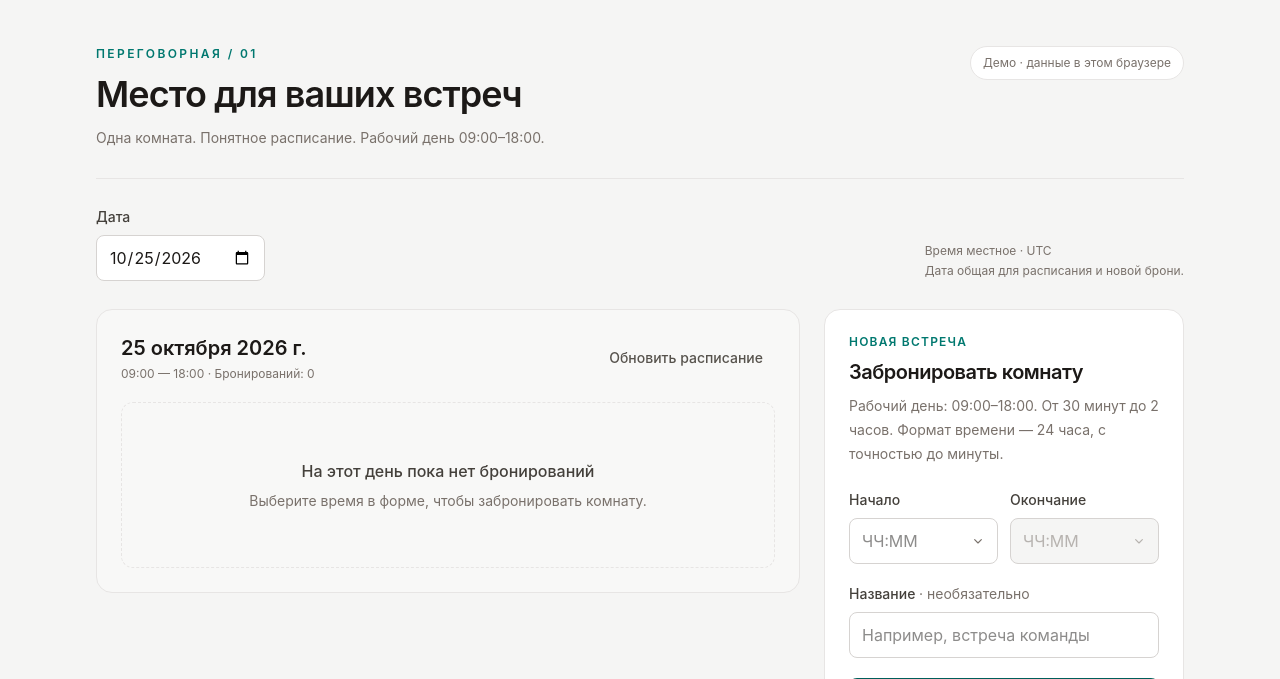
Test case: booking UI through real HTTP handlers › allows moving a past booking into the future but not saving its past interval
The width and height of the screenshot is (1280, 679).
Expected: the text "На этот день пока нет бронирований" is shown, [302,461,594,481]
In the date field labelled "Дата": (180, 258) [96,235,265,281], type "2026-10-24"
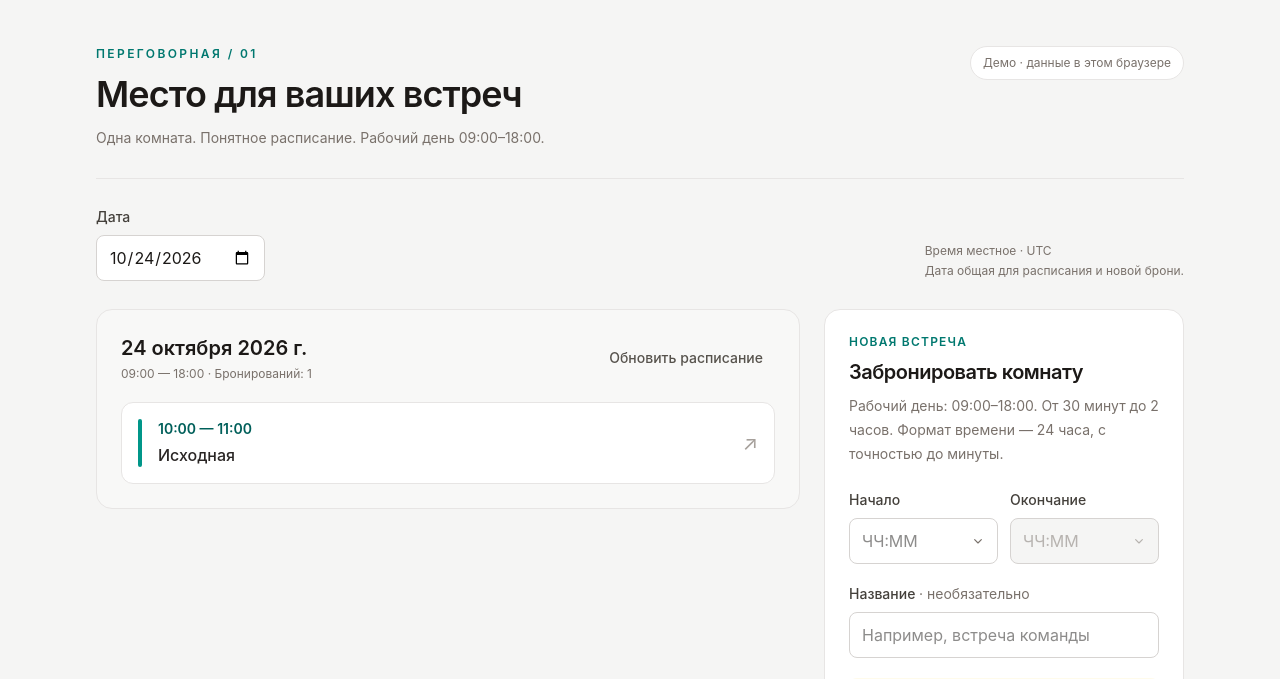
Click the button with aria-label "Редактировать Исходная": (177, 428) [121,402,775,484]
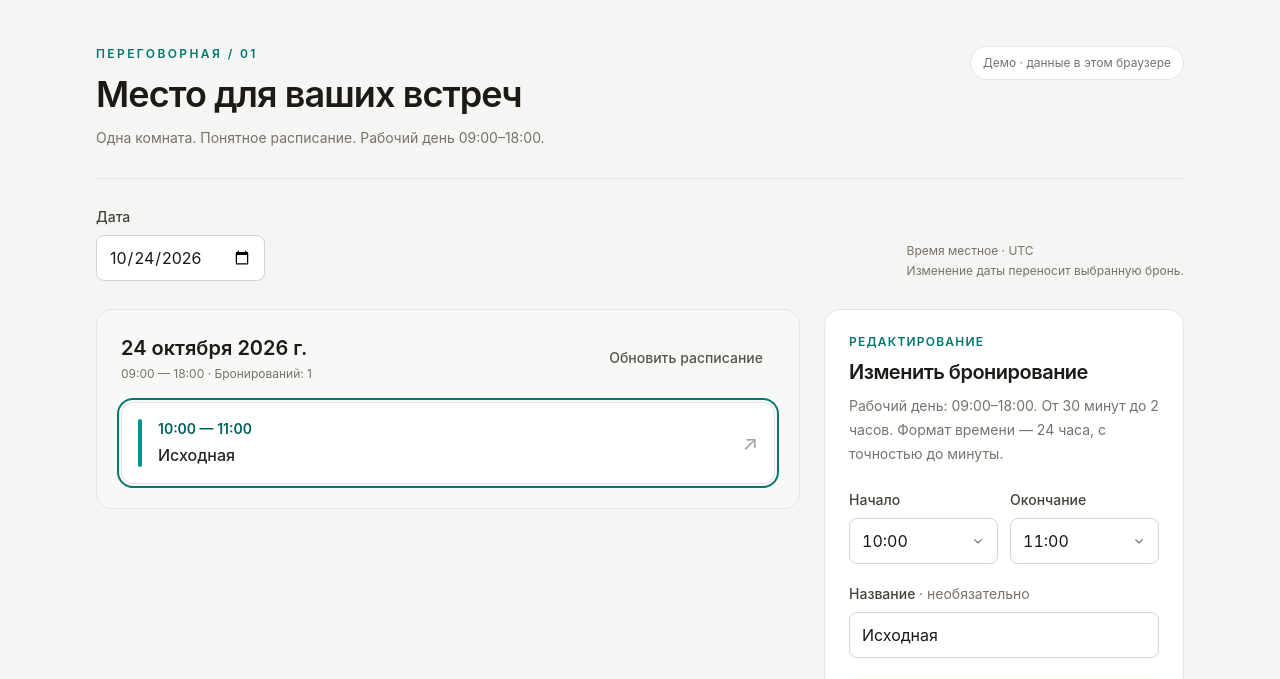
In the date field labelled "Дата": (180, 258) [96,235,265,281], type "2026-10-26"
(page scrolled)
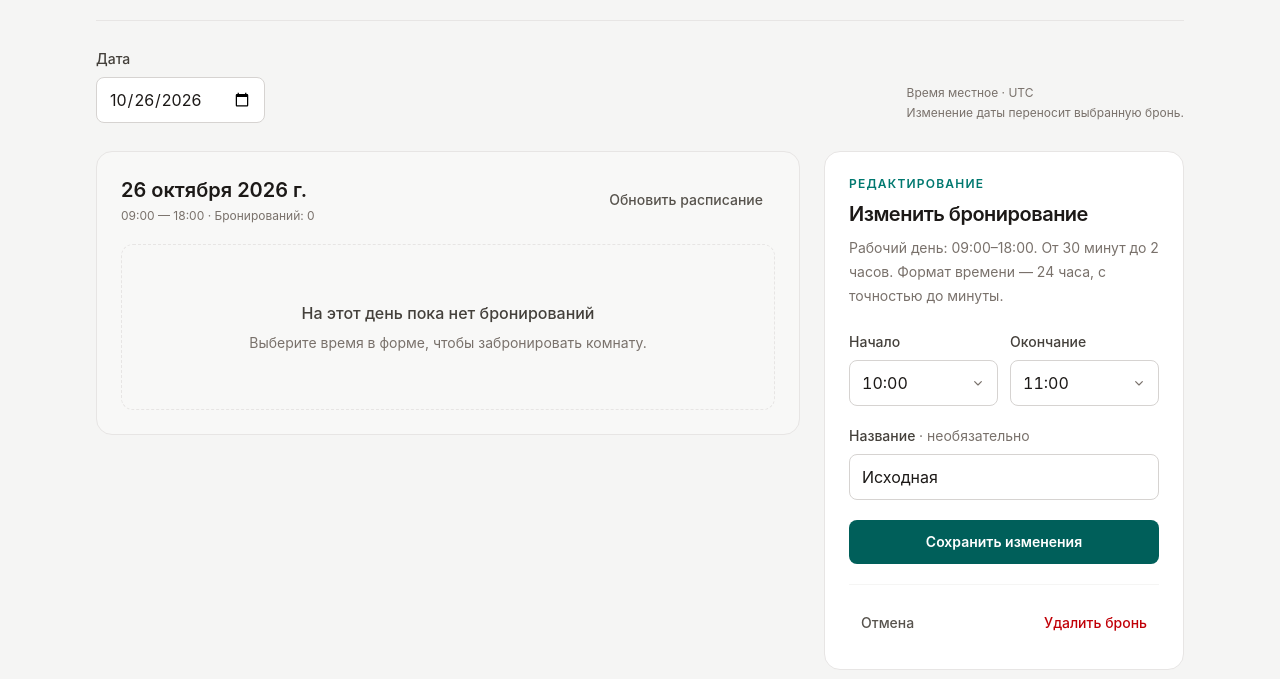
Now the text "На этот день пока нет бронирований" is shown, box [302,303,594,323]
Click the button "Сохранить изменения": (1004, 542) [849,520,1159,564]
(page scrolled)
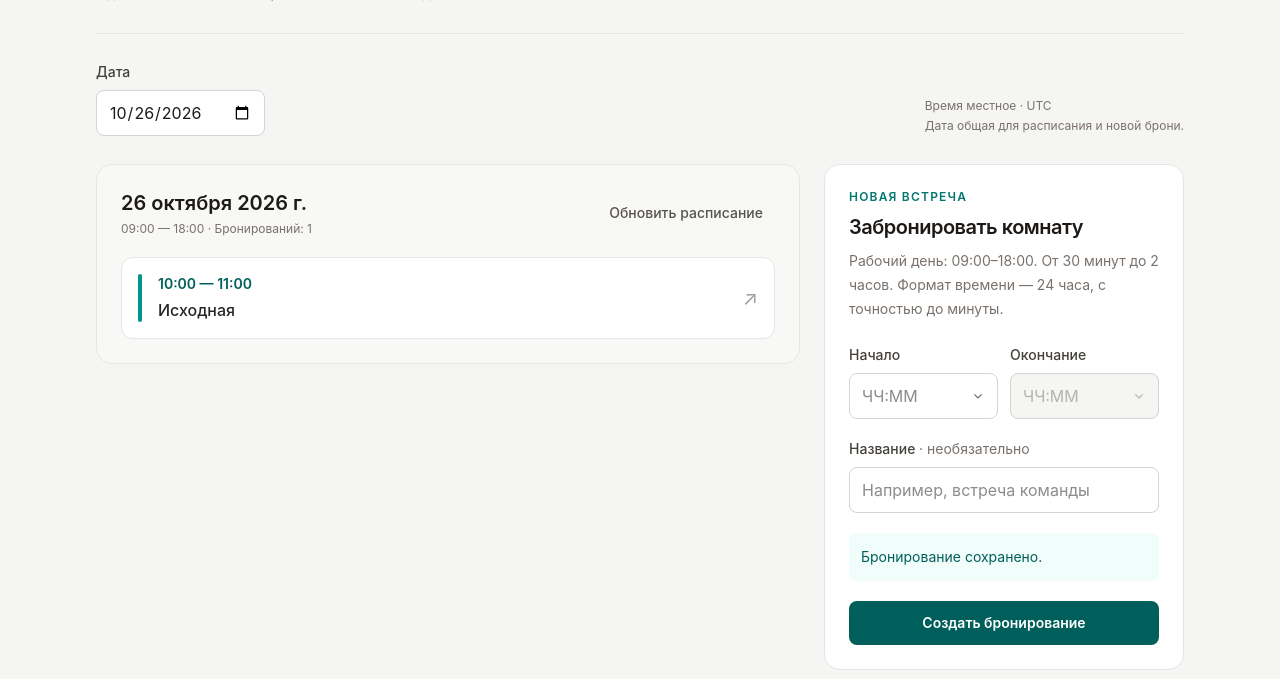
Now the button with aria-label "Редактировать Исходная" is shown, box [121,257,775,339]
